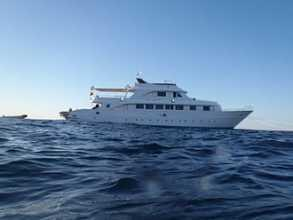yacht: (62, 68, 257, 127)
